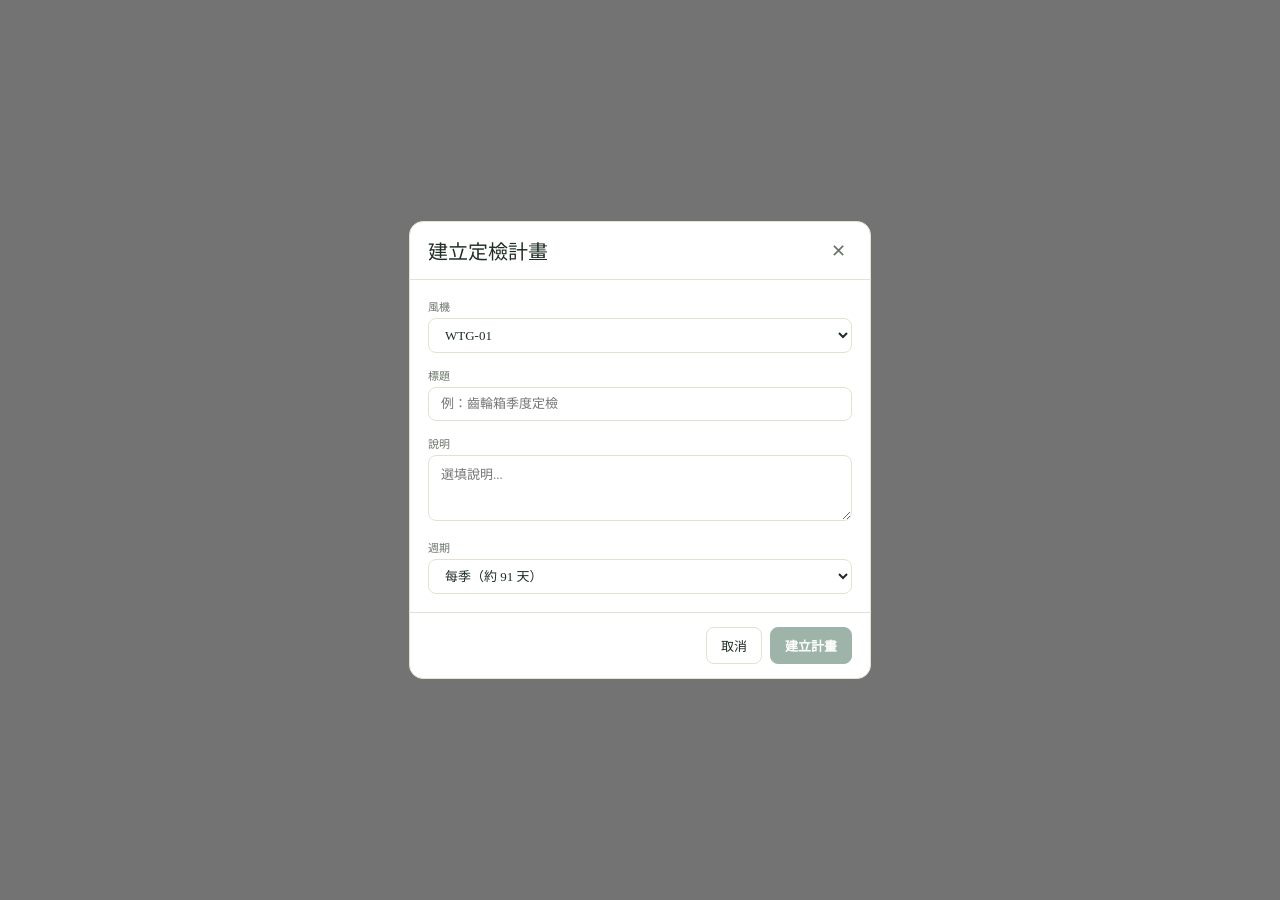
CreateInspectionScheduleModal 建立定檢計畫 › title 填妥（quarterly，非 custom_days）→ 按鈕啟用
In the field labelled "標題": point(640, 404) [428,387,852,421], type "齒輪箱季度定檢"
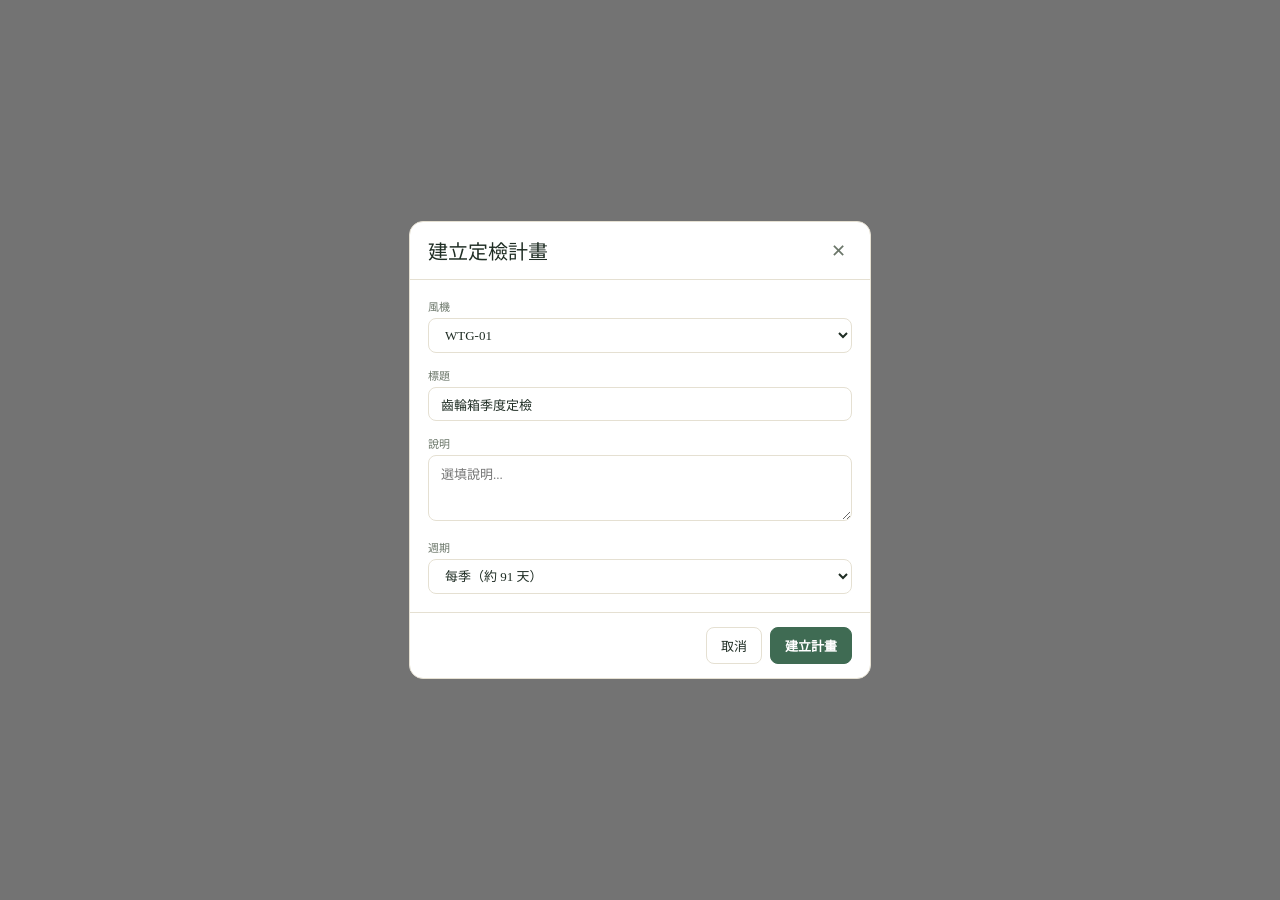
Expected: the button "建立計畫" is enabled, [770,627,852,664]
